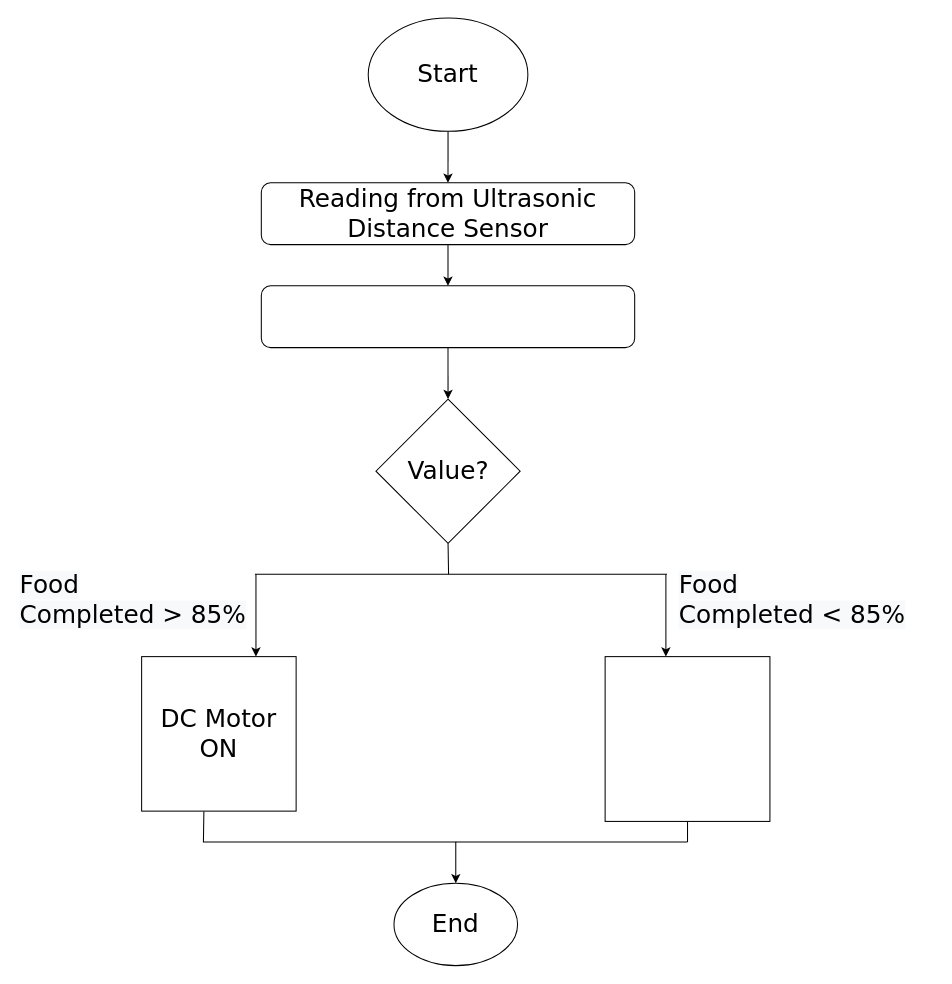
Image size: 952x984. Some labels were removed from this diagram. The centre of each missing label's shape, as x and y in pixels:
Arduino: the point at 447,316
DC Motor OFF: the point at 687,738
